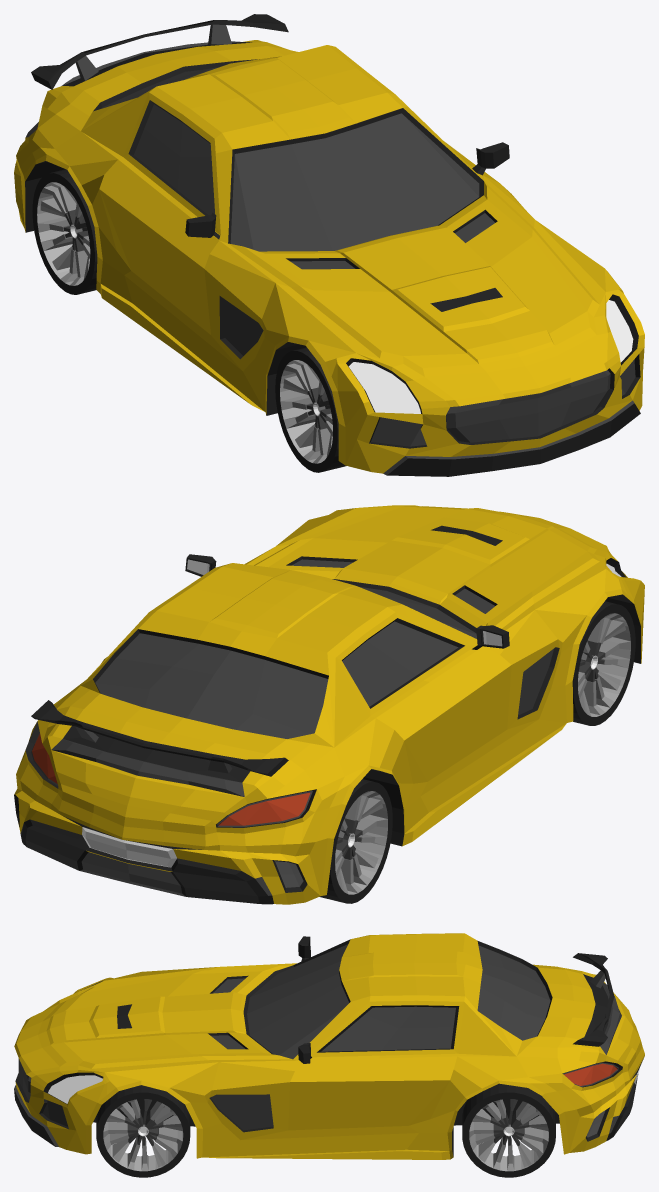
File: mercedesbenzslsamgblackseries.fbx
3 views of the same model, one above another, from view 1: azimuth 30°, elevation 25°; view 2: azimuth 150°, elevation 25°; view 3: azimuth 270°, elevation 25° (orthographic). The views are drawn at different scales.
Parts seen in each view (by area): view 1: YellowBody, BackRight, FrontRight; view 2: YellowBody, FrontRight, BackRight; view 3: YellowBody, BackLeft, FrontLeft.
Boxes of the visible parts, bbox=[...] form: YellowBody: bbox=[14, 14, 644, 476]; BackRight: bbox=[32, 169, 97, 294]; FrontRight: bbox=[275, 347, 346, 472]; YellowBody: bbox=[14, 505, 644, 904]; FrontRight: bbox=[572, 601, 635, 725]; BackRight: bbox=[319, 779, 392, 903]; YellowBody: bbox=[14, 933, 644, 1159]; BackLeft: bbox=[462, 1083, 555, 1177]; FrontLeft: bbox=[96, 1085, 190, 1177].
Size of the model in its own units: 2.04 by 4.61 by 1.29.
